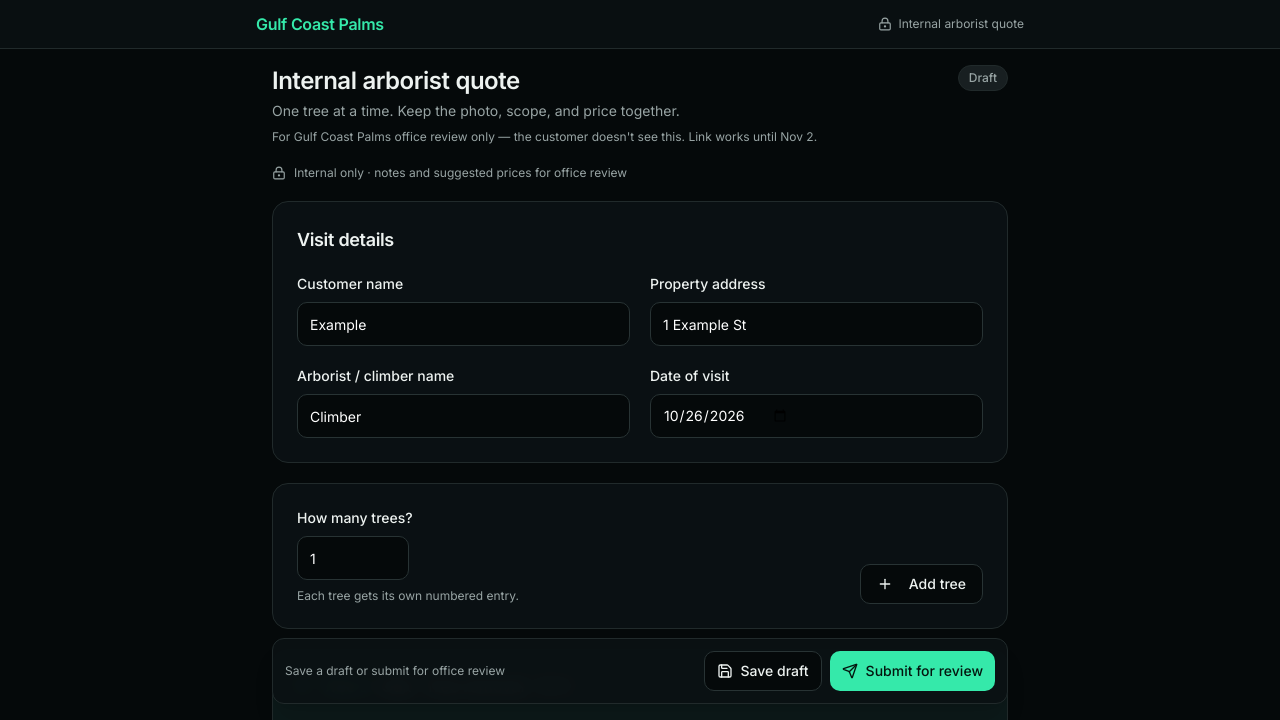
arborist guest quote link › switches to the expired state if the link expires while editing
Click the button "Save draft" at (762, 671), box [704,651,822,691]
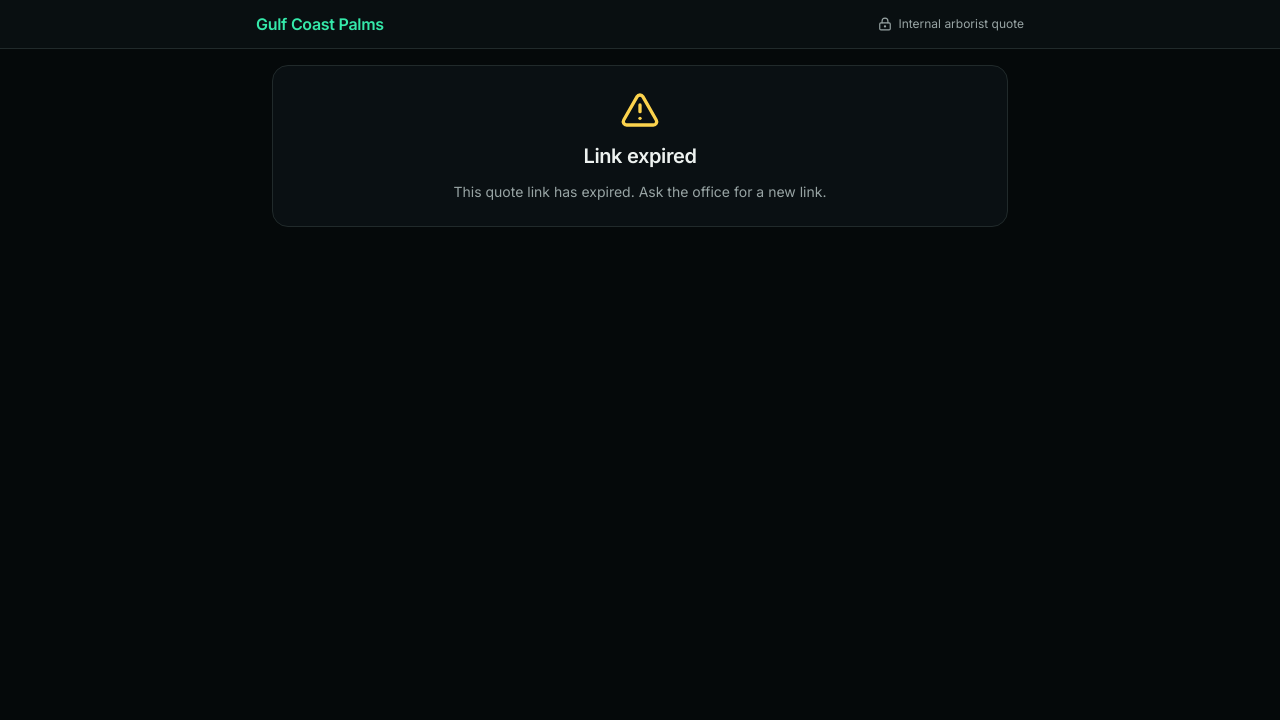
Now the heading "Link expired" is shown, box [584,144,696,168]
